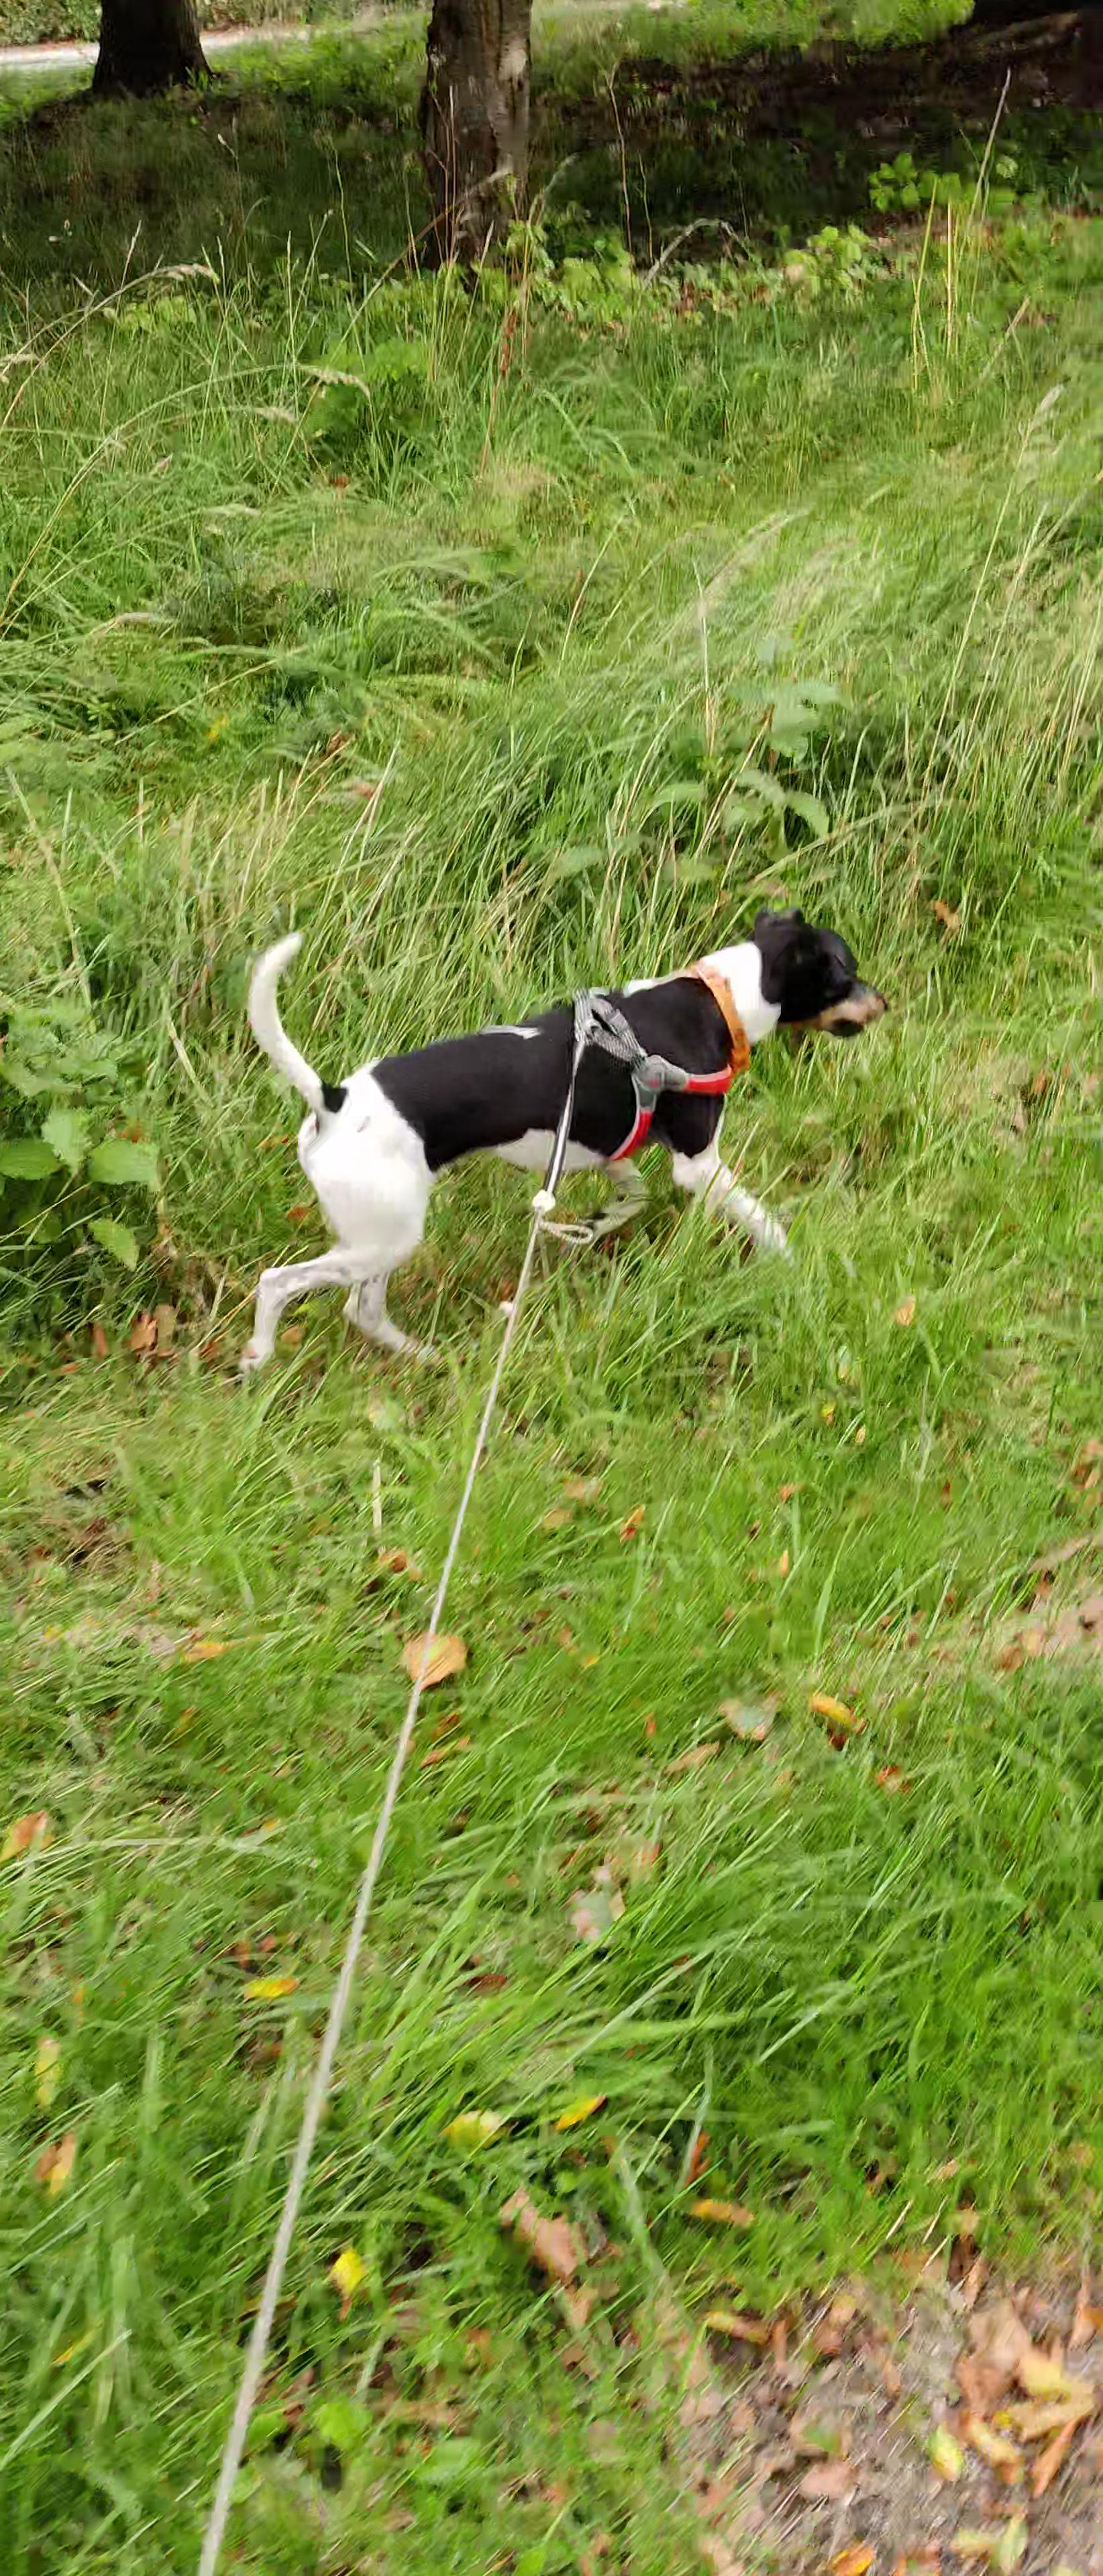Dog: (230, 900, 894, 1387)
